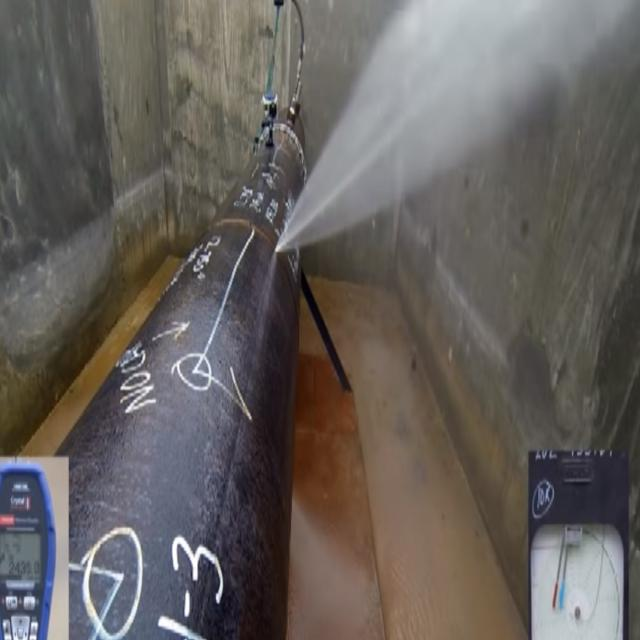leak: (279, 2, 622, 250)
